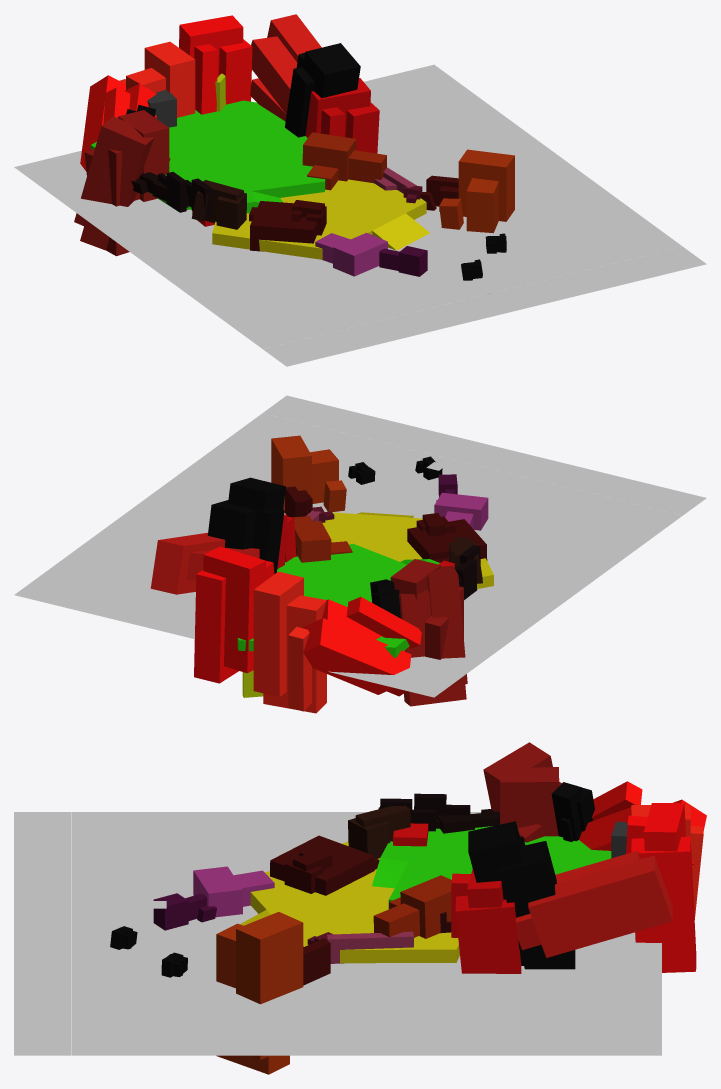
File: Ground.obj
3 views of the same model, one above another, from view 1: azimuth 30°, elevation 25°; view 2: azimuth 150°, elevation 25°; view 3: azimuth 270°, elevation 25° (orthographic). The views are drawn at different scales.
Visible parts, largest first — view 1: 岩_立方体.019, 円柱, 円柱.001_円柱.002, 立方体.002, 立方体.003_立方体.001; view 2: 岩_立方体.019, 円柱, 立方体.002, 円柱.001_円柱.002, 立方体.001_立方体.005; view 3: 岩_立方体.019, 円柱.001_円柱.002, 立方体.002, 円柱, 立方体.001_立方体.005, 立方体, 立方体.003_立方体.001.
Part boxes in pixels (x1,y1,x2,y2): 岩_立方体.019: (74, 14, 514, 280); 円柱: (90, 100, 325, 213); 円柱.001_円柱.002: (212, 179, 429, 259); 立方体.002: (285, 43, 360, 137); 立方体.003_立方体.001: (147, 90, 176, 127); 岩_立方体.019: (150, 435, 488, 713); 円柱: (237, 543, 439, 657); 立方体.002: (207, 477, 285, 573); 円柱.001_円柱.002: (322, 512, 493, 588); 立方体.001_立方体.005: (370, 579, 400, 618); 岩_立方体.019: (110, 742, 706, 1074); 円柱.001_円柱.002: (240, 841, 459, 963); 立方体.002: (468, 821, 575, 969); 円柱: (372, 826, 611, 908); 立方体.001_立方体.005: (551, 782, 594, 841); 立方体: (393, 823, 428, 846); 立方体.003_立方体.001: (611, 821, 627, 858).
Bounding box in the file's own units: 652 × 248 × 784.
